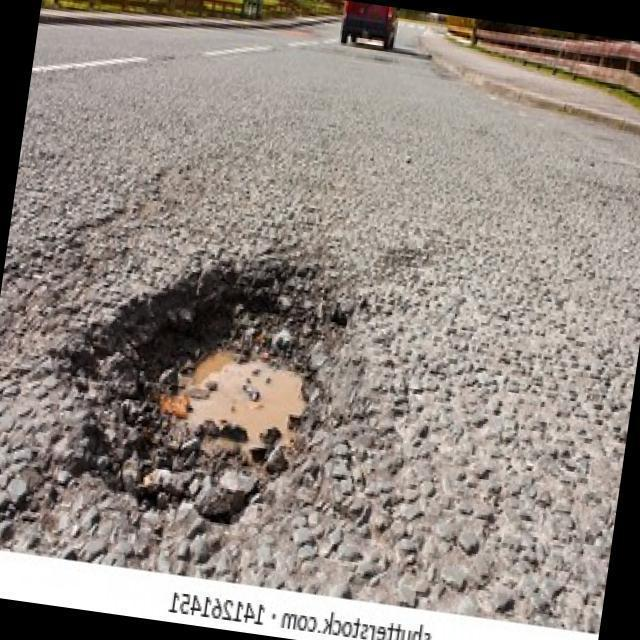pothole: (49, 227, 368, 548)
